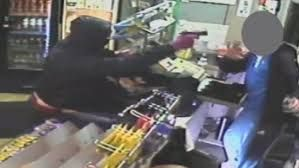gun: (169, 25, 210, 48)
